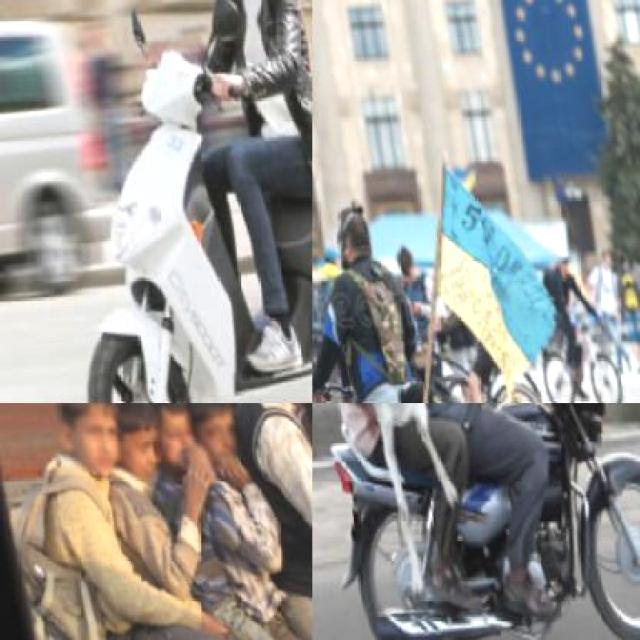Without Helmet: (95, 403, 168, 488), (49, 403, 123, 477), (177, 403, 243, 474), (143, 403, 197, 472), (328, 186, 374, 248)
